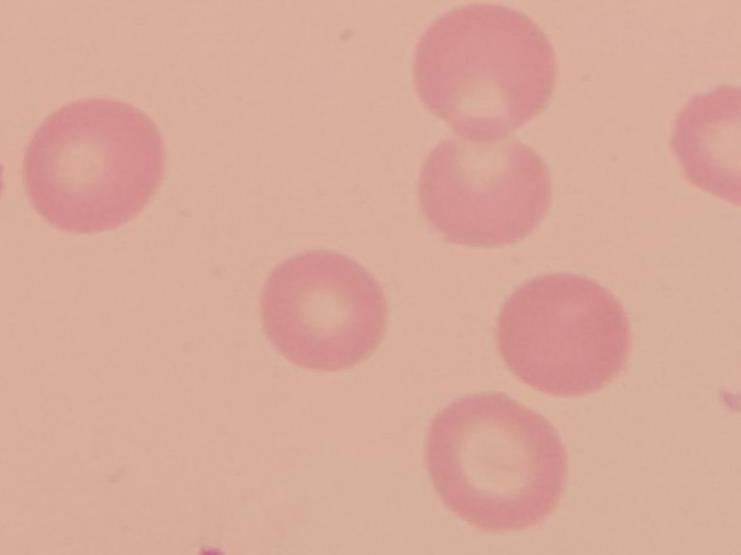Uninfected: (21, 95, 168, 236), (423, 390, 569, 529), (413, 5, 555, 138), (417, 120, 551, 248), (493, 270, 626, 396), (259, 248, 388, 369), (670, 83, 741, 200)
